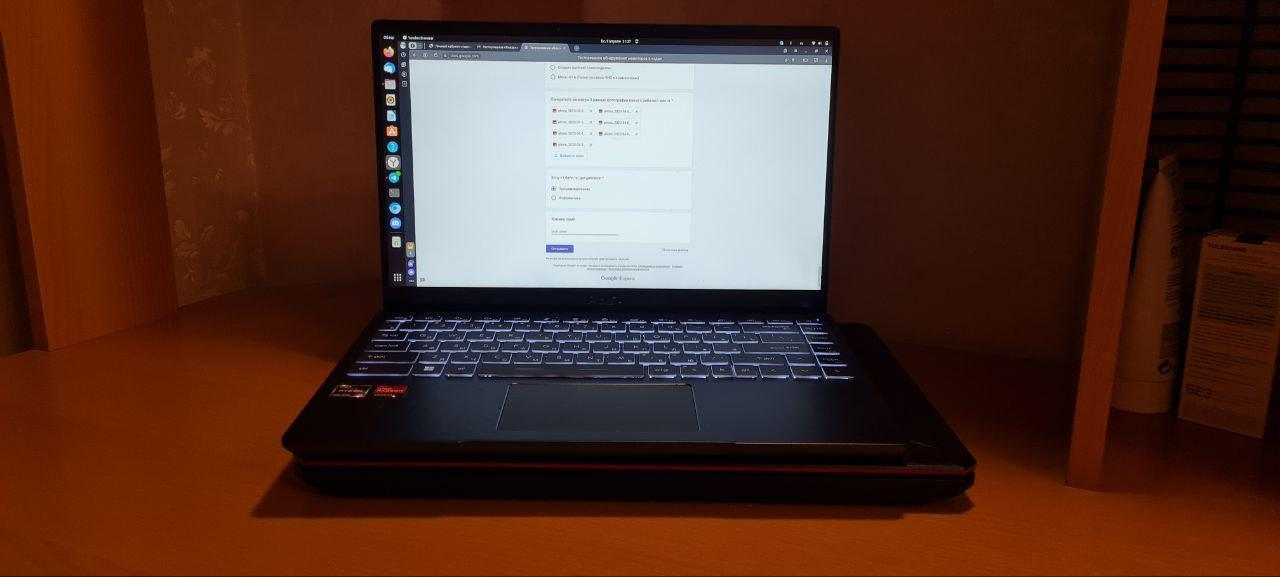monitor: (363, 11, 846, 308)
